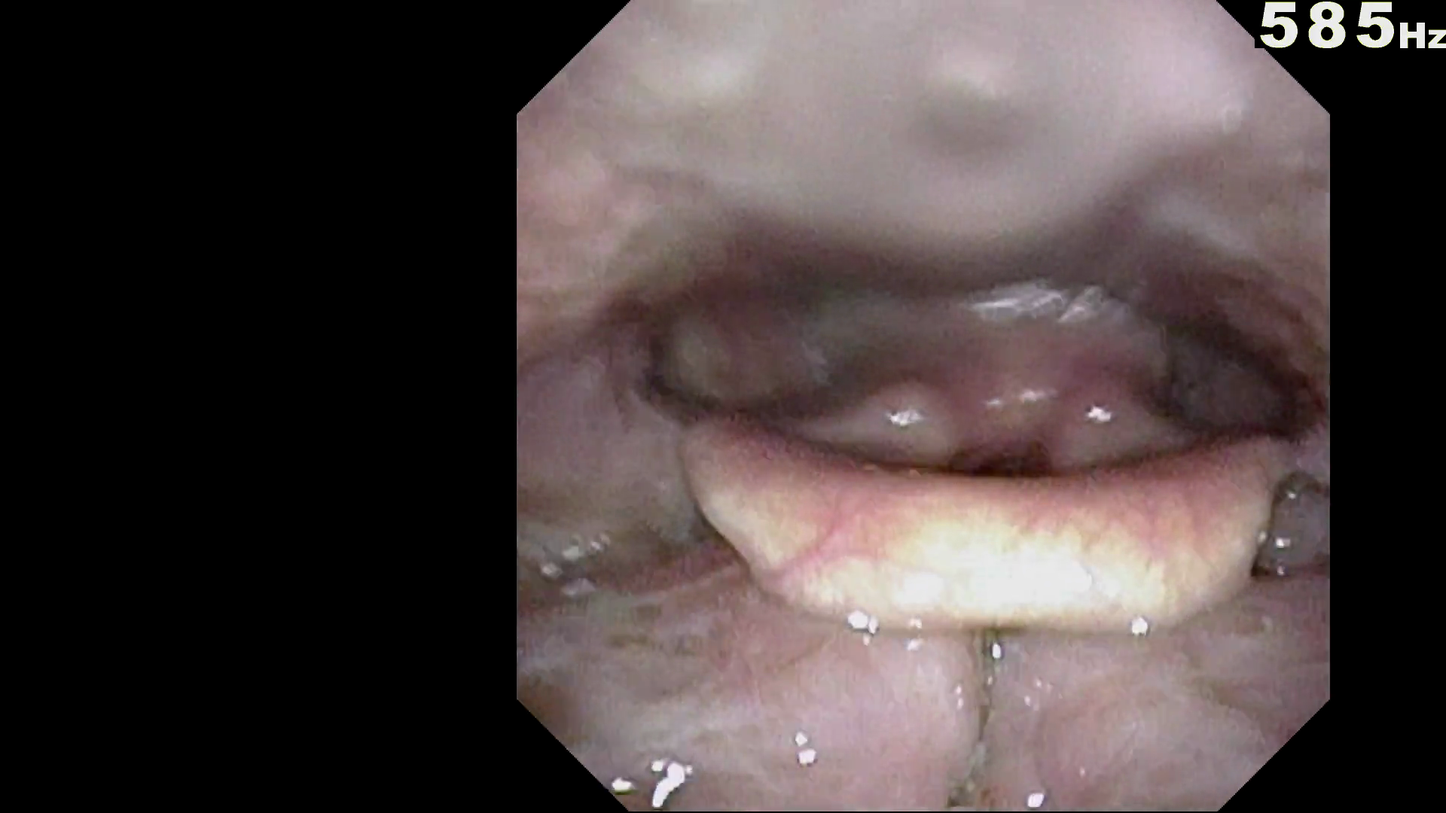epiglottis: (659, 427, 1318, 651)
trachea: (932, 425, 1062, 498)
